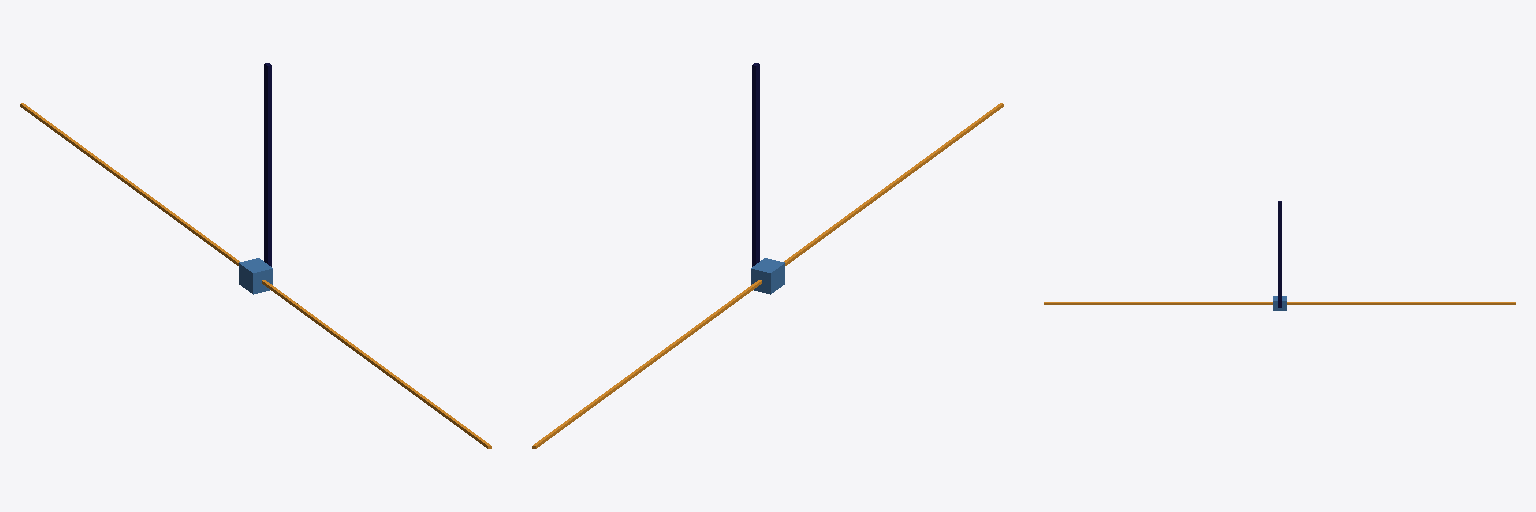
The robot description file, URDF, robot "cartpole":
<?xml version="1.0"?>
<robot name="cartpole">

  <link name="slider">
    <visual>
      <geometry>
        <box size="0.03 8 0.03"/>
      </geometry>
      <material name="slider_mat">
        <color rgba="0.9 0.6 0.2 1"/>
      </material>
    </visual>
    <collision>
      <geometry>
        <box size="0.03 8 0.03"/>
      </geometry>
    </collision>
  </link>

  <joint name="slider_to_cart" type="prismatic">
    <axis xyz="0 1 0"/>
    <origin xyz="0 0 0"/>
    <parent link="slider"/>
    <child link="cart"/>
    <limit effort="1000.0" lower="-4" upper="4" velocity="100"/>
  </joint>
  
  <link name="cart">
    <visual>
      <geometry>
        <box size="0.2 0.25 0.2"/>
      </geometry>
      <material name="cart_mat">
        <color rgba="0.3 0.5 0.7 1"/>
      </material>
    </visual>
    <collision>
      <geometry>
          <box size="0.2 0.25 0.2"/>
      </geometry>
    </collision>
    <inertial>
      <mass value="1"/>
      <inertia ixx="0.1" ixy="0.0" ixz="0.0" iyy="0.1" iyz="0.0" izz="0.1"/>
    </inertial>
  </link>

  <joint name="cart_to_pole1" type="continuous">
    <axis xyz="1 0 0"/>
    <origin xyz="0.12 0 0"/>
    <parent link="cart"/>
    <child link="pole1"/>
    <limit effort="1000.0" velocity="8"/>
  </joint>
  
  <link name="pole1">
    <visual>
      <geometry>
        <box size="0.04 0.06 1.0"/>	
      </geometry>
      <origin xyz="0 0 0.47"/>
      <material name="pole_mat">
        <color rgba="0.1 0.1 0.3 1"/>
      </material>
    </visual>
    <collision>
      <geometry>
        <box size="0.04 0.06 1.0"/>	
      </geometry>
      <origin xyz="0 0 0.47"/>
    </collision>
    <inertial>
      <origin xyz="0 0 0.47"/>
      <mass value="0.25"/>
      <inertia ixx="0.1" ixy="0.0" ixz="0.0" iyy="0.1" iyz="0.0" izz="0.1"/>
    </inertial>
  </link>

  <link name="pole2">
    <visual>
      <geometry>
        <box size="0.04 0.06 1.0"/> 
      </geometry>
      <origin xyz="0 0 0.47"/>
      <material name="pole_mat">
        <color rgba="0.1 0.1 0.3 1"/>
      </material>
    </visual>
    <collision>
      <geometry>
        <box size="0.04 0.06 1.0"/> 
      </geometry>
      <origin xyz="0 0 0.47"/>
    </collision>
    <inertial>
      <origin xyz="0 0 0.47"/>
      <mass value="0.25"/>
      <inertia ixx="0.1" ixy="0.0" ixz="0.0" iyy="0.1" iyz="0.0" izz="0.1"/>
    </inertial>
  </link>

  <joint name="pole1_to_pole2" type="continuous">
    <axis xyz="1 0 0"/>
    <origin xyz="0.0 0 1.0"/>
    <parent link="pole1"/>
    <child link="pole2"/>
    <limit effort="1000.0" velocity="8"/>
  </joint>

</robot>

--- What the picture shows (computed from the rendered views, not written in the file) ---
Views: 3 orthographic renders of the robot side by side, from view 1: azimuth 30°, elevation 25°; view 2: azimuth 150°, elevation 25°; view 3: azimuth 270°, elevation 25°.
Robot: cartpole — 4 links, 3 joints (2 continuous, 1 prismatic); root link slider; default pose: all joints at 0.
Visible links, largest first — view 1: slider, cart, pole2, pole1; view 2: slider, cart, pole2, pole1; view 3: slider.
Boxes of the visible links, box(x1,y1,x2,y2) form: slider: box(20, 103, 491, 448); cart: box(239, 258, 272, 294); pole2: box(264, 63, 271, 171); pole1: box(264, 170, 271, 266); slider: box(532, 103, 1003, 448); cart: box(751, 258, 784, 294); pole2: box(752, 63, 759, 171); pole1: box(752, 170, 759, 266); slider: box(1044, 302, 1515, 304).
Bounding box of the posed robot: 0.24 × 8 × 2.07 m (x, y, z).
Geometry: primitives only (box / cylinder / sphere), no mesh files.
